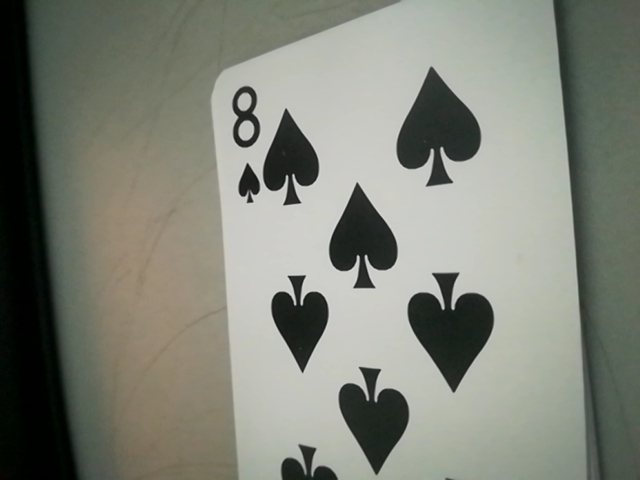ht 8: (219, 76, 283, 207)
